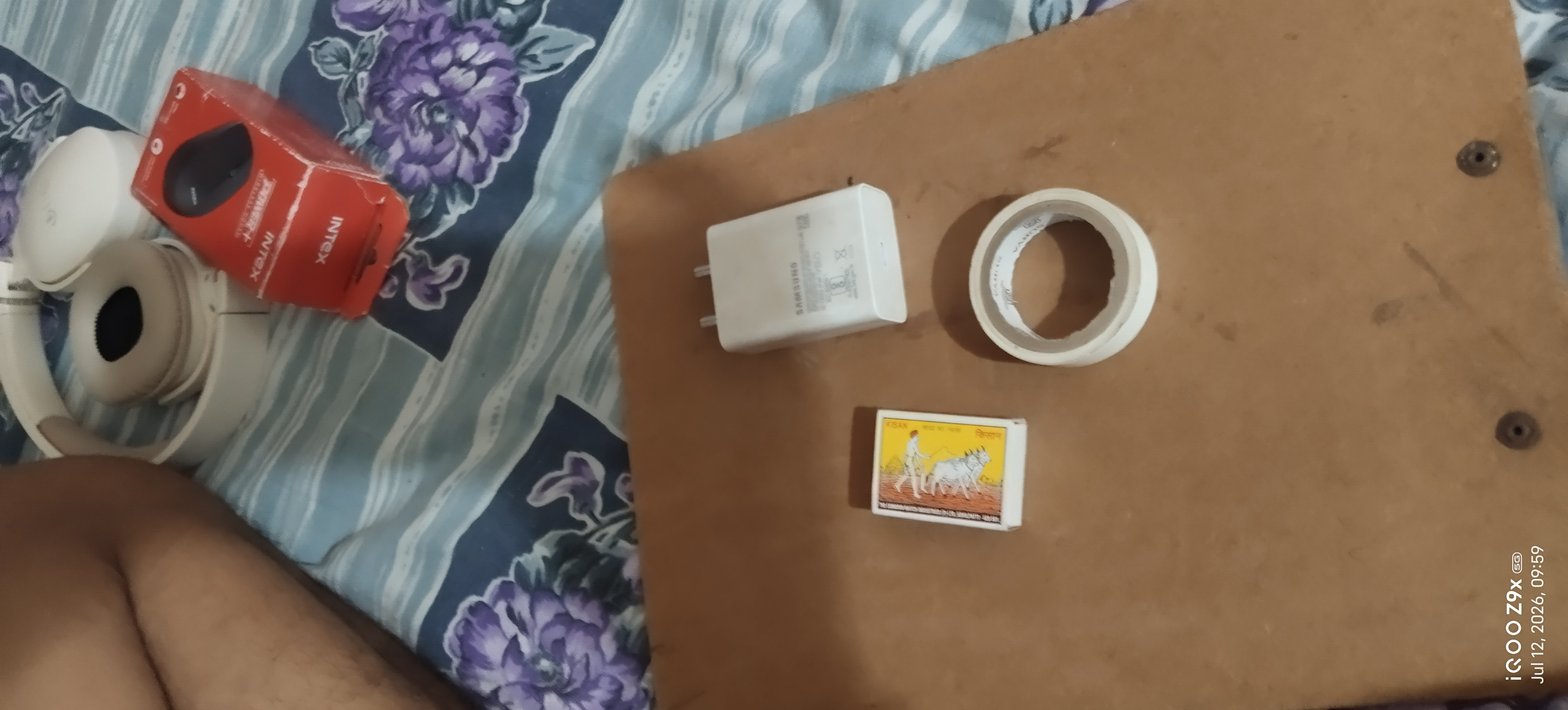charger: (680, 178, 921, 372)
matchbox: (853, 398, 1049, 552)
tape_roll: (933, 178, 1182, 384)
